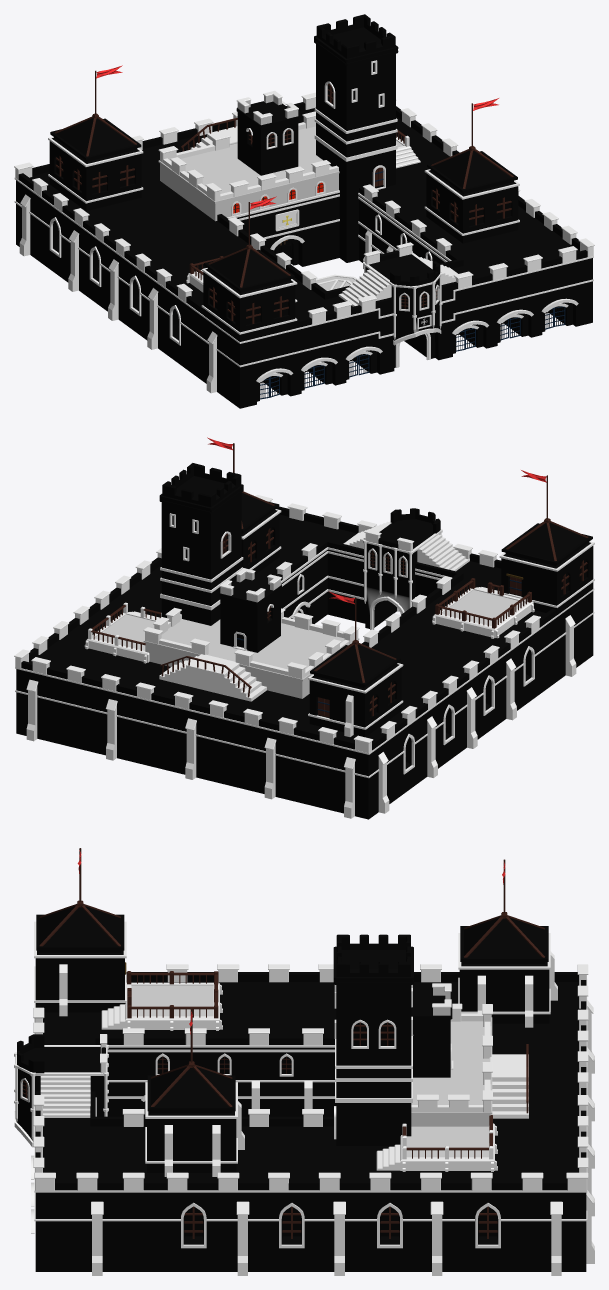
File: crusader_headquarter.FBX
The picture shows the model from 3 angles, top to bottom: view 1: azimuth 30°, elevation 25°; view 2: azimuth 150°, elevation 25°; view 3: azimuth 270°, elevation 25°; orthographic projection. The views are drawn at different scales.
Visible parts, largest first — view 1: crusader_headquarter; view 2: crusader_headquarter; view 3: crusader_headquarter.
Boxes of the visible parts, x1,y1,x2,y2 form: crusader_headquarter: (14,14,594,408); crusader_headquarter: (14,437,594,819); crusader_headquarter: (14,848,594,1275).
Bounding box in the file's own units: 5169 × 2921 × 5803.
